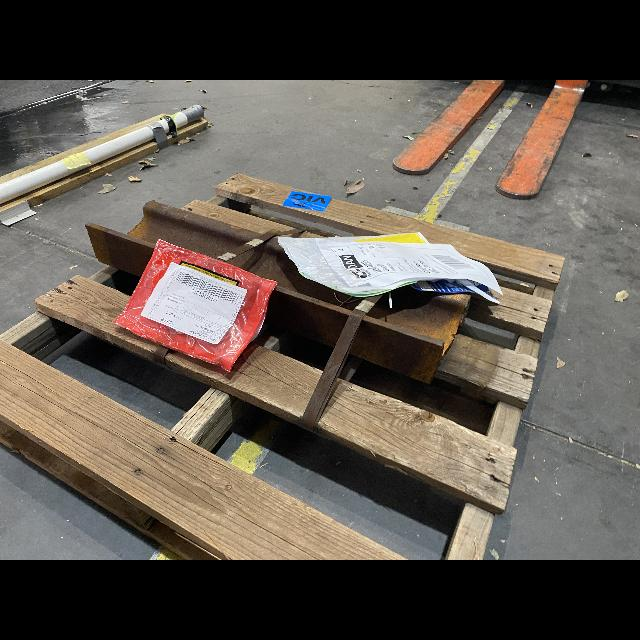Ferrous Metal: (225, 237, 364, 348), (85, 201, 263, 276), (349, 285, 471, 384), (301, 294, 383, 435), (494, 81, 588, 199), (393, 80, 505, 175), (215, 228, 304, 262), (155, 345, 169, 366)
